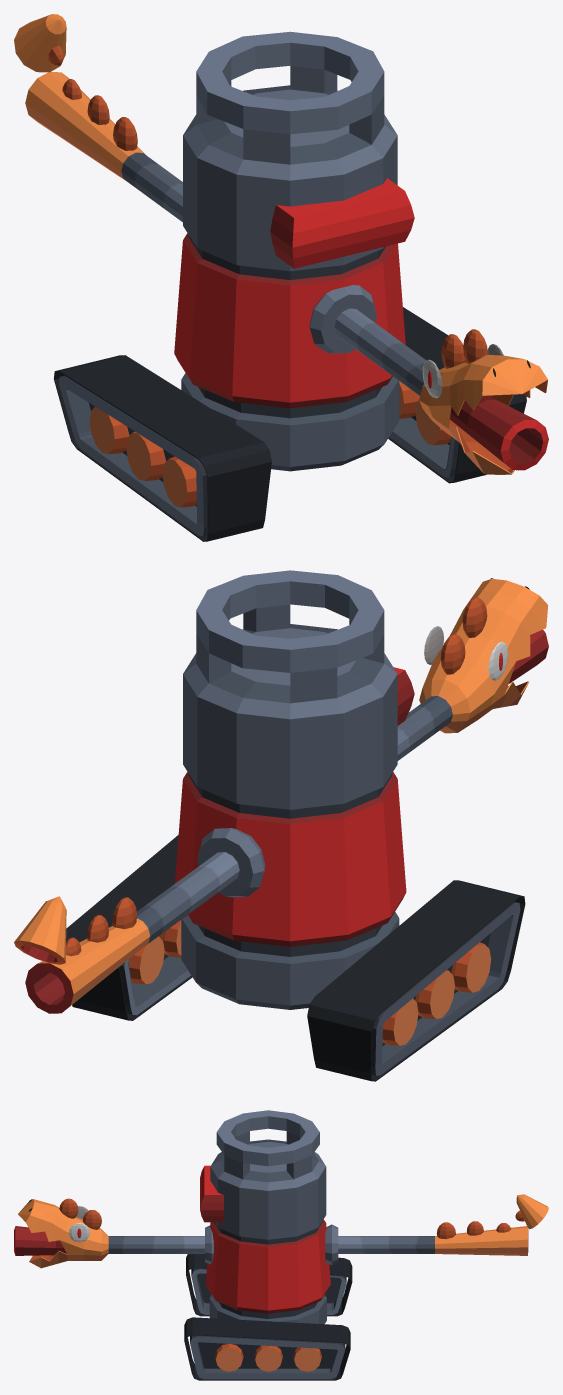
Rendered from ROBO GUARDIAO PRONTO.fbx.
3 renders of one model, top to bottom at view 1: azimuth 30°, elevation 25°; view 2: azimuth 150°, elevation 25°; view 3: azimuth 270°, elevation 25°, orthographic. The views are drawn at different scales.
Parts seen in each view (by area): view 1: Circle.002, Circle.003, Circle.005; view 2: Circle.002, Circle.003, Circle.005; view 3: Circle.002, Circle.003, Circle.005.
Boxes of the visible parts, x1=… form: Circle.002: x1=14, y1=14, x2=548, y2=474; Circle.003: x1=183, y1=31, x2=414, y2=279; Circle.005: x1=54, y1=307, x2=526, y2=541; Circle.002: x1=14, y1=578, x2=548, y2=1013; Circle.003: x1=183, y1=570, x2=414, y2=818; Circle.005: x1=66, y1=835, x2=525, y2=1081; Circle.002: x1=14, y1=1194, x2=548, y2=1313; Circle.003: x1=200, y1=1110, x2=326, y2=1244; Circle.005: x1=184, y1=1254, x2=352, y2=1380.
Size of the model in its own units: 80.87 by 93.36 by 216.
Materials: 1 (1 with a texture image).
